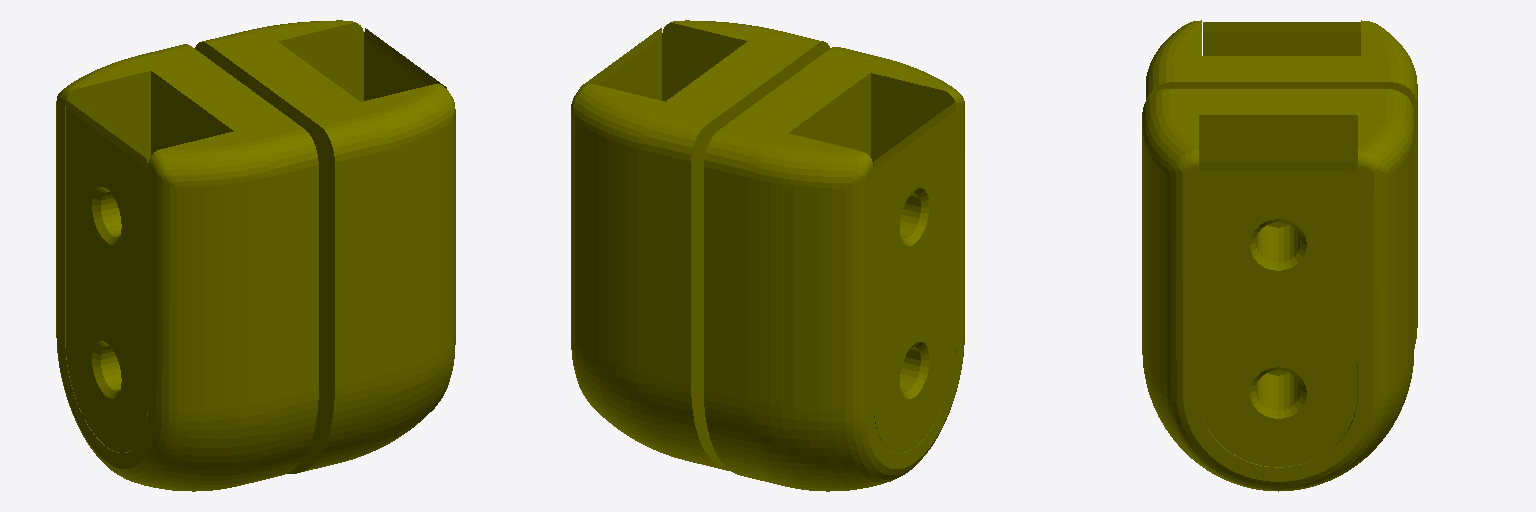
robot.urdf — ee:
<?xml version="1.0" ?>
<robot name="ee">

	<link name="world">
	<inertial>
      <mass value="0"/>
      <inertia ixx="0.2125" ixy="-0.005" ixz="0.0225" iyy="0.205" iyz="0.045" izz="0.0125"/>
      <origin rpy="0 0 0" xyz="0 0 0"/>
    </inertial>
	</link>

  <link name="y_prismatic">
	 <inertial>
      <mass value="0.01"/>
      <inertia ixx="0.2125" ixy="-0.005" ixz="0.0225" iyy="0.205" iyz="0.045" izz="0.0125"/>
      <origin rpy="0 0 0" xyz="0 0 0"/>
    </inertial>
	</link>
	
	<joint name="y_to_world" type="prismatic">
    <parent link="world"/>
    <child link="y_prismatic"/>
    <axis xyz="0 1 0"/>
    <limit effort="0.0" lower="1" upper="-1" velocity="1000.0"/>
    <origin rpy="0 0 0" xyz="0 0 0"/>
  </joint>
		
	<!-- <link name="x_prismatic">
	 <inertial>
      <mass value="0.01"/>
      <inertia ixx="0.2125" ixy="-0.005" ixz="0.0225" iyy="0.205" iyz="0.045" izz="0.0125"/>
      <origin rpy="0 0 0" xyz="0 0 0"/>
    </inertial>
	</link> -->
	
	<!-- <joint name="x_to_y" type="prismatic">
    <parent link="y_prismatic"/>
    <child link="x_prismatic"/>
    <axis xyz="1 0 0"/>
     <limit effort="0.0" lower="1" upper="-1" velocity="1000.0"/>
    <origin rpy="0 0 0" xyz="0 0 0"/>
  </joint> -->

  <!-- <joint name="ee_to_z" type="continuous">
    <parent link="x_prismatic"/>
    <child link="ee_cube"/>
    <axis xyz="0 0 1"/>
    <origin rpy="0 0 0" xyz="0.0 0.0 0.0"/>
  </joint> -->

	<joint name="planer" type="prismatic">
    <parent link="y_prismatic"/>
    <child link="ee_cube"/>
    <axis xyz="1 0 0"/>
     <limit effort="0.0" lower="1" upper="-1" velocity="1000.0"/>
    <origin rpy="0 0 0" xyz="0 0 0"/>
  </joint>

  <link name="ee_cube">
    <contact>
      <lateral_friction value="1.0"/>
      <rolling_friction value="0.0"/>
      <contact_cfm value="0.0"/>
      <contact_erp value="0.0"/>
      <restitution value ="0.0"/>
    </contact>
    <inertial>
      <origin rpy="0 0 0" xyz="0 0 0"/>
       <!-- <mass value="100.0"/> -->
       <mass value="1000.0"/>
       <inertia ixx="1" ixy="0" ixz="0" iyy="1" iyz="0" izz="1"/>
    </inertial>
    <collision>
      <origin rpy="0 0 0" xyz="0 0 0"/>
      <geometry>
	 	    <mesh filename="ee_vhacd.obj" />
      </geometry>
    </collision>
    <visual>
      <origin rpy="0 0 0" xyz="0 0 0"/>
      <geometry>
				<mesh filename="ee.obj" />
      </geometry>
      <material name="red">
        <color rgba="0.5 0.5 0 1"/>
      </material>
    </visual>
  </link>

</robot> 

--- Facts derived from the render (not from the file) ---
Views: 3 orthographic renders of the robot side by side, from view 1: azimuth 30°, elevation 25°; view 2: azimuth 150°, elevation 25°; view 3: azimuth 270°, elevation 25°.
Robot: ee — 3 links, 2 joints (2 prismatic); root link world; default pose: all joints at 0.
Visible links, largest first — view 1: ee_cube; view 2: ee_cube; view 3: ee_cube.
Boxes of the visible links, x1,y1,x2,y2 form: ee_cube: (56, 20, 455, 491); ee_cube: (571, 20, 964, 491); ee_cube: (1142, 20, 1417, 491).
Bounding box of the posed robot: 0.0486 × 0.0405 × 0.059 m (x, y, z).
Meshes: 1 distinct files referenced, 1 mesh visuals loaded (1 OBJ).